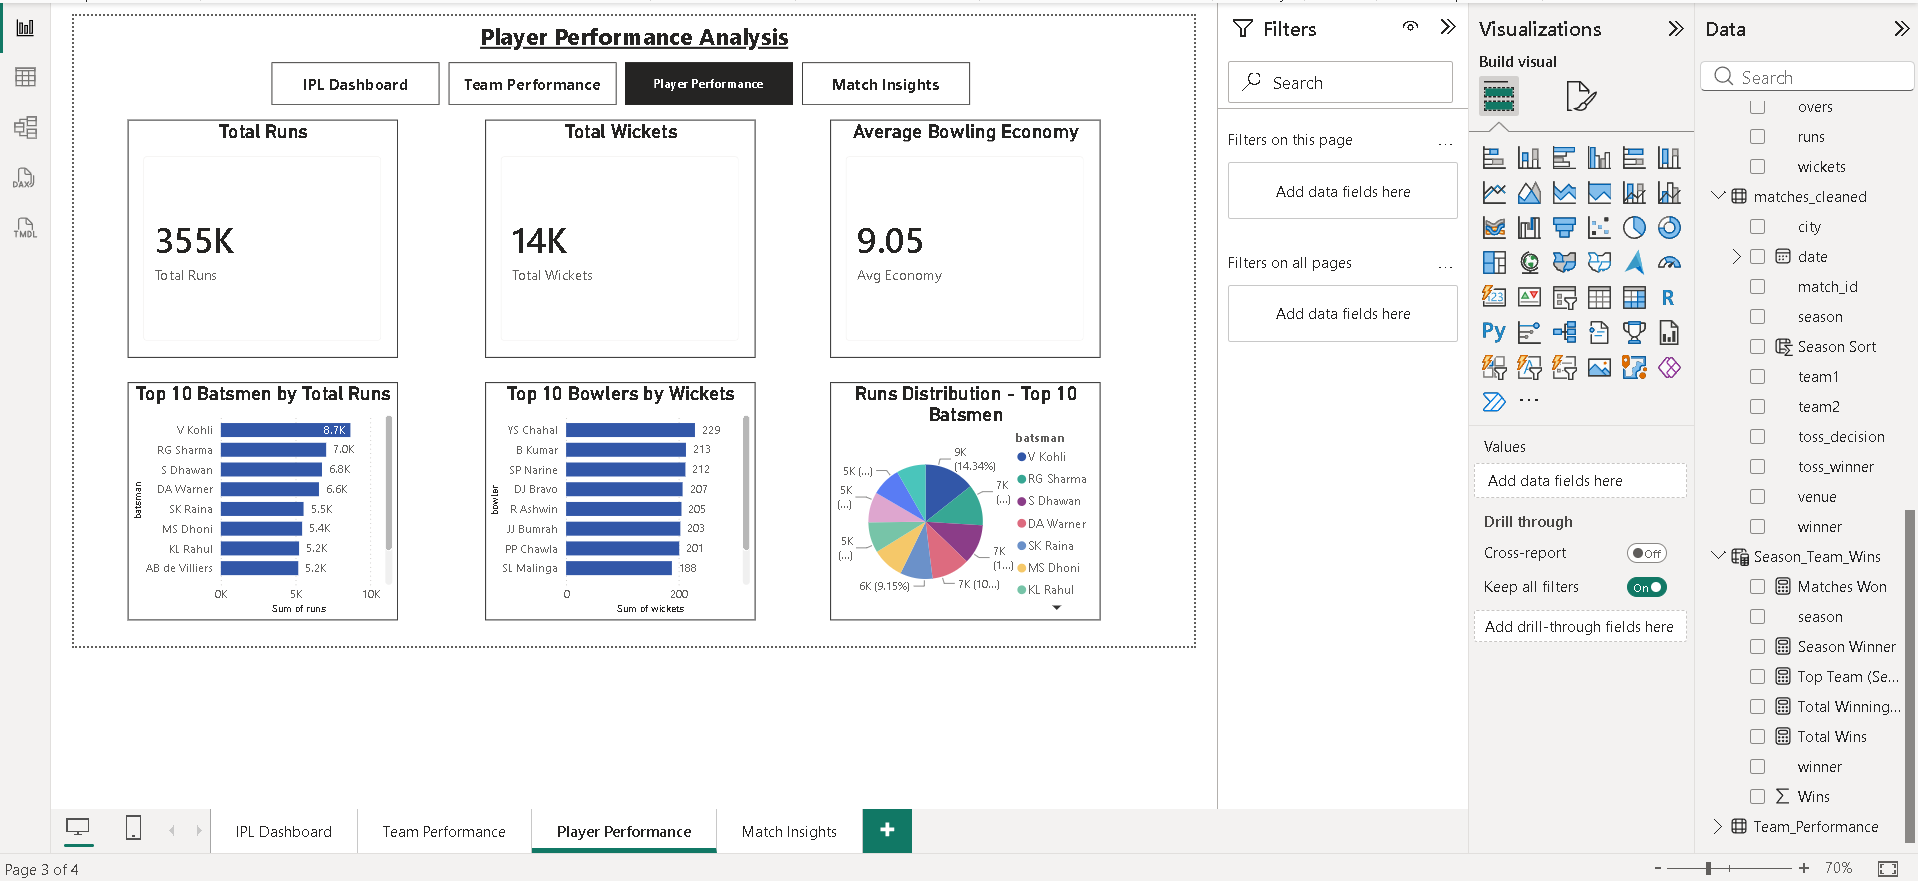

This screenshot's page, from the dashboard's own definition file:
{"tool":"powerbi","page":{"name":"Player Performance","canvas":[1280,720],"ordinal":2},"visuals":[{"type":"clusteredBarChart","title":"Top 10 Batsmen by Total Runs","fields":{"Category":["final_batsmen_stats.batsman"],"Y":["Sum(final_batsmen_stats.runs)"]},"box":[61.7,418.5,308.7,271.7],"z":0},{"type":"cardVisual","title":"Total Runs","fields":{"Data":["deliveries_cleaned.Total Runs"]},"box":[61.7,118,308.7,271.7],"z":1000},{"type":"clusteredBarChart","title":"Top 10 Bowlers by Wickets","fields":{"Category":["final_bowlers_stats.bowler"],"Y":["Sum(final_bowlers_stats.wickets)"]},"box":[470.7,418.5,308.7,271.7],"z":2000},{"type":"cardVisual","title":"Average Bowling Economy","fields":{"Data":["deliveries_cleaned.Avg Economy"]},"box":[864.5,118,308.7,271.7],"z":3000},{"type":"pieChart","title":"Runs Distribution - Top 10 Batsmen","fields":{"Category":["final_batsmen_stats.batsman"],"Y":["Sum(final_batsmen_stats.runs)"]},"box":[864.5,418.5,308.7,271.7],"z":4000},{"type":"cardVisual","title":"Total Wickets","fields":{"Data":["deliveries_cleaned.Total Wickets"]},"box":[470.7,118,308.7,271.7],"z":5000},{"type":"textbox","box":[0,0,1280.3,65.9],"z":6000},{"type":"pageNavigator","box":[225,53.5,800,49.4],"z":7000}]}

Visuals, with their boxes on the page's 1280x720 design canvas (x1, y1, x2, y2). These are canvas units, not pixel positions in the 1918x881 screenshot, which may show the page scaled, cropped or inside an application window:
"Top 10 Batsmen by Total Runs" clusteredBarChart: x1=62 y1=418 x2=370 y2=690
"Total Runs" cardVisual: x1=62 y1=118 x2=370 y2=390
"Top 10 Bowlers by Wickets" clusteredBarChart: x1=471 y1=418 x2=779 y2=690
"Average Bowling Economy" cardVisual: x1=864 y1=118 x2=1173 y2=390
"Runs Distribution - Top 10 Batsmen" pieChart: x1=864 y1=418 x2=1173 y2=690
"Total Wickets" cardVisual: x1=471 y1=118 x2=779 y2=390
textbox: x1=0 y1=0 x2=1280 y2=66
pageNavigator: x1=225 y1=54 x2=1025 y2=103
